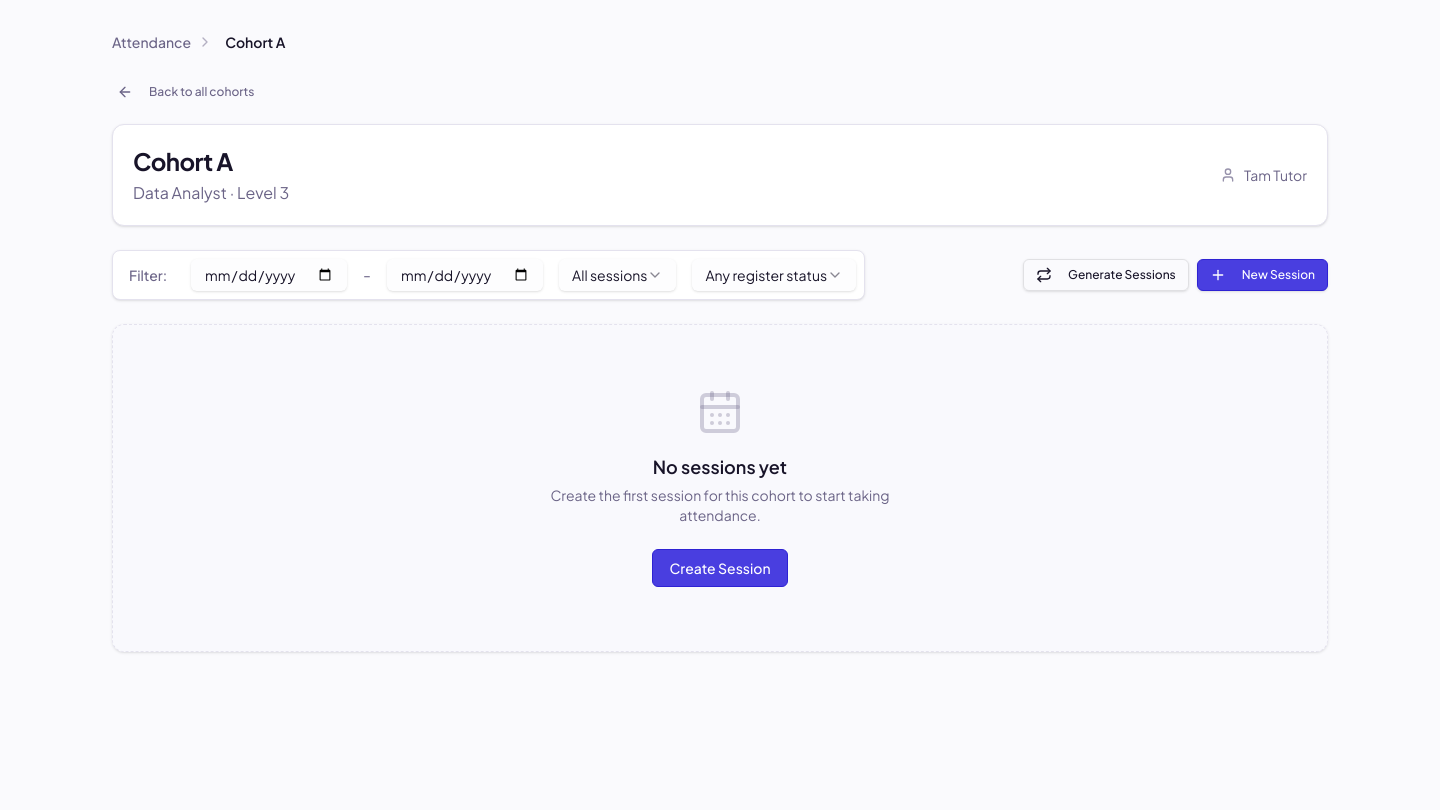
Test case: CohortSessionsPage generate-sessions dialog › offers a Generate Sessions action, pre-filled from the cohort's own day/time defaults
Click the button "Generate Sessions": (1106, 275) [1023,259,1189,291]
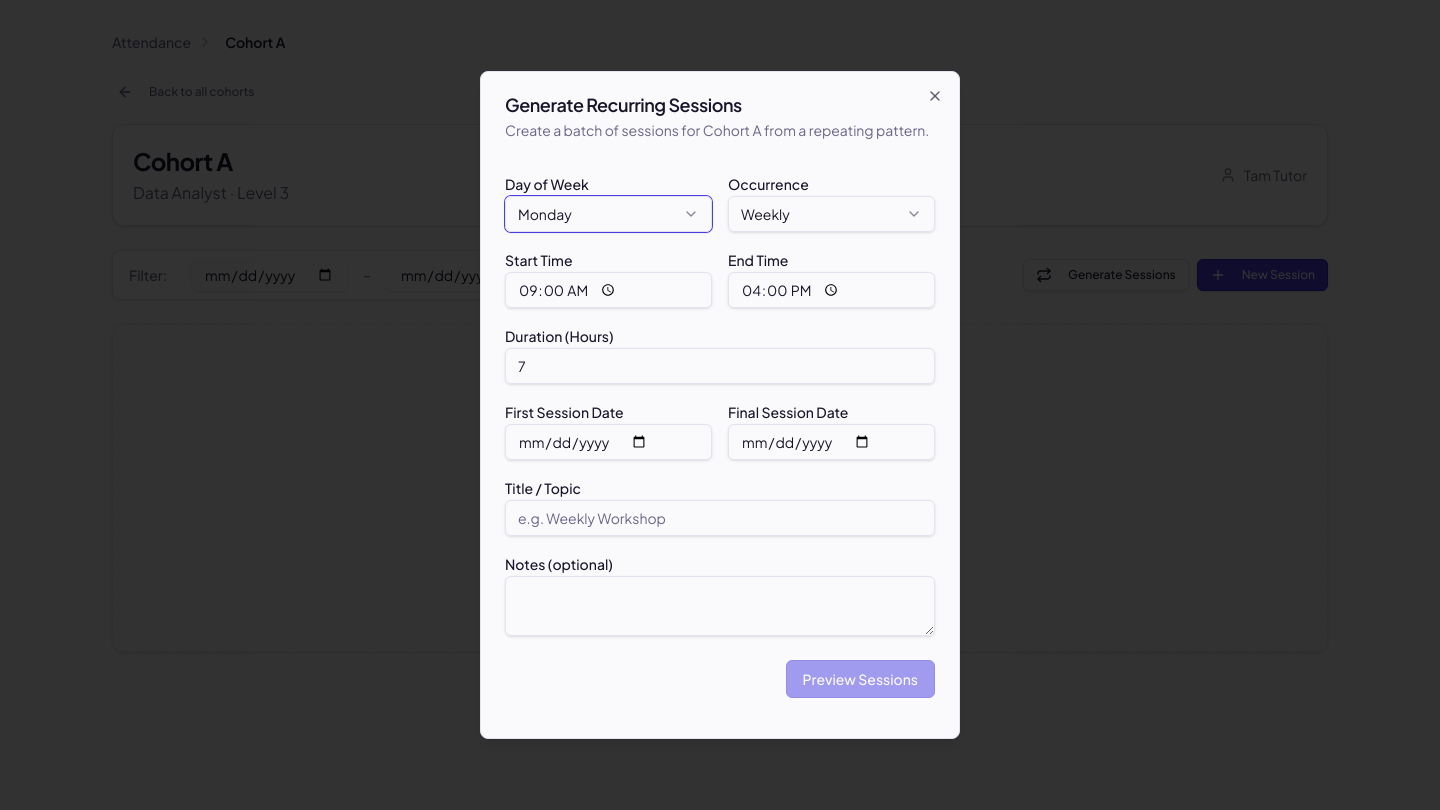
Expected: the dropdown named "day of week" reads "Monday", [505,196,712,232]
Expected: the time field labelled "Start Time" holds "09:00", [505,272,712,308]
Expected: the time field labelled "End Time" holds "16:00", [728,272,935,308]
